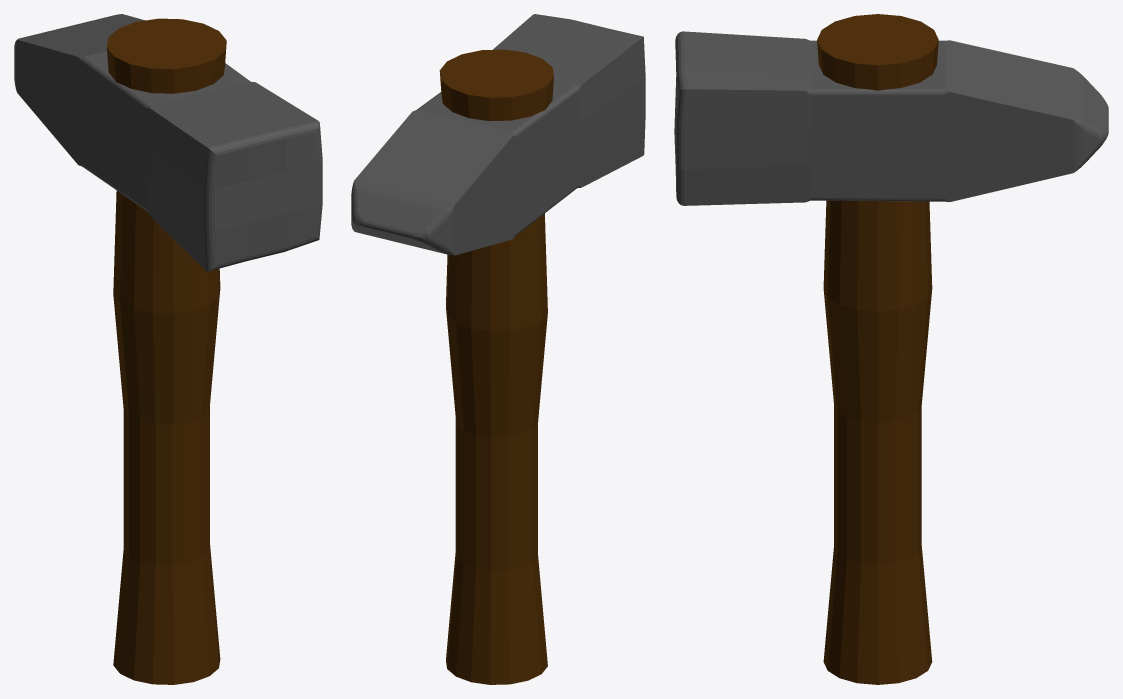
Rendered from Marteau.fbx.
3 views of the same model, side by side, from view 1: azimuth 30°, elevation 25°; view 2: azimuth 150°, elevation 25°; view 3: azimuth 270°, elevation 25° (orthographic). The views are drawn at different scales.
Parts seen in each view (by area): view 1: Cube; view 2: Cube; view 3: Cube.
Boxes of the visible parts, x1,y1,x2,y2 form: Cube: (14,14,322,684); Cube: (351,14,645,684); Cube: (674,14,1108,684).
Size of the model in its own units: 250 by 799 by 1263.
